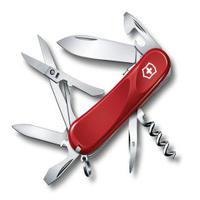knife: (12, 8, 184, 184)
